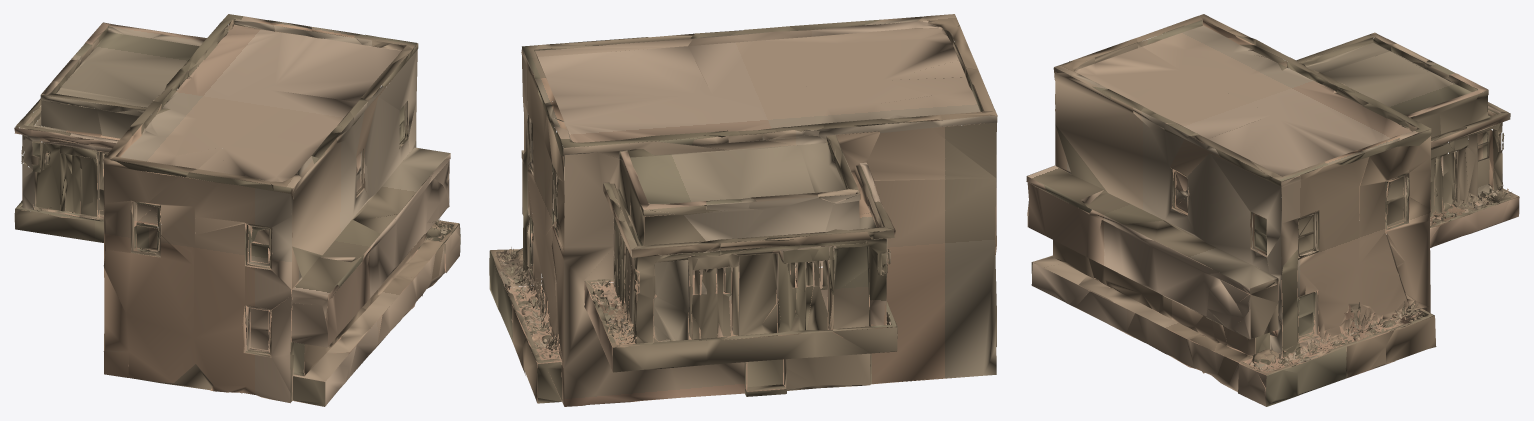
Rendered from home.glb.
3 views of the same model, side by side, from view 1: azimuth 30°, elevation 25°; view 2: azimuth 150°, elevation 25°; view 3: azimuth 270°, elevation 25° (orthographic). The views are drawn at different scales.
Visible parts, largest first — view 1: LO.001; view 2: LO.001; view 3: LO.001.
Part boxes in pixels (x1,y1,x2,y2): LO.001: (14, 14, 460, 406); LO.001: (489, 14, 997, 406); LO.001: (1026, 14, 1519, 406).
Size of the model in its own units: 2.23 by 1.18 by 2.5.
Materials: 1 (1 with a texture image).
